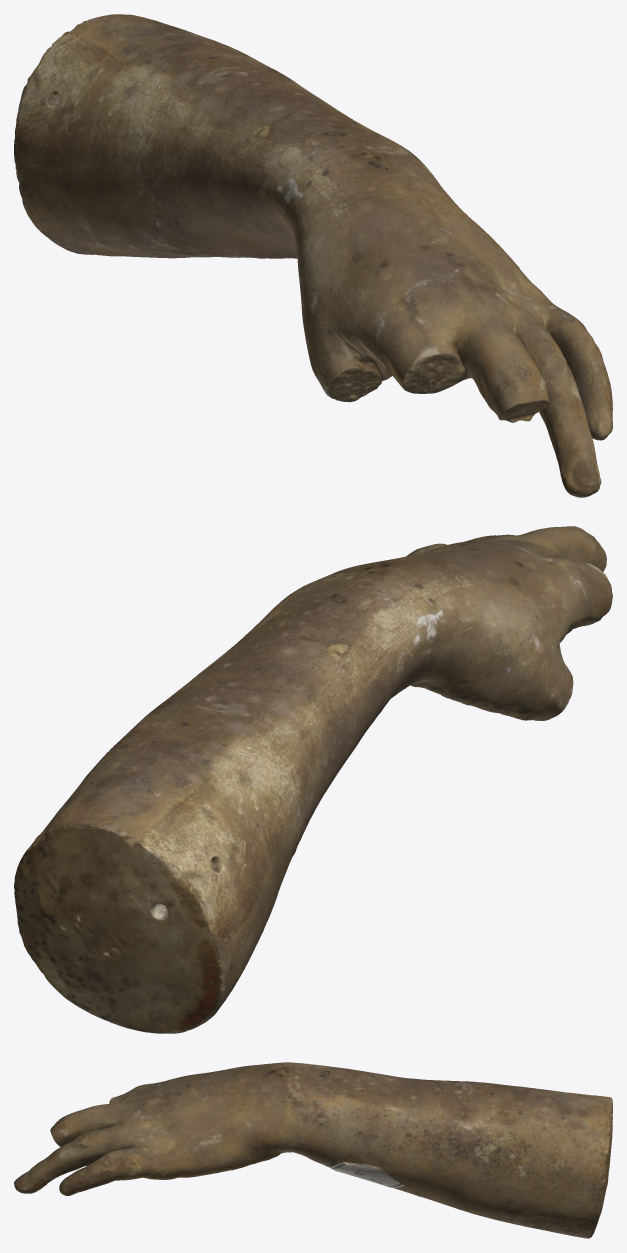
Rendered from life-cast-of-left-forearm-and-hand-150k-2048-medium-100k-2048_std_draco.glb.
The picture shows the model from 3 angles, top to bottom: view 1: azimuth 30°, elevation 25°; view 2: azimuth 150°, elevation 25°; view 3: azimuth 270°, elevation 25°; orthographic projection. The views are drawn at different scales.
Bounding box in the file's own units: 0.0815 × 0.0977 × 0.3211.
Materials: 1 (1 with a texture image).
